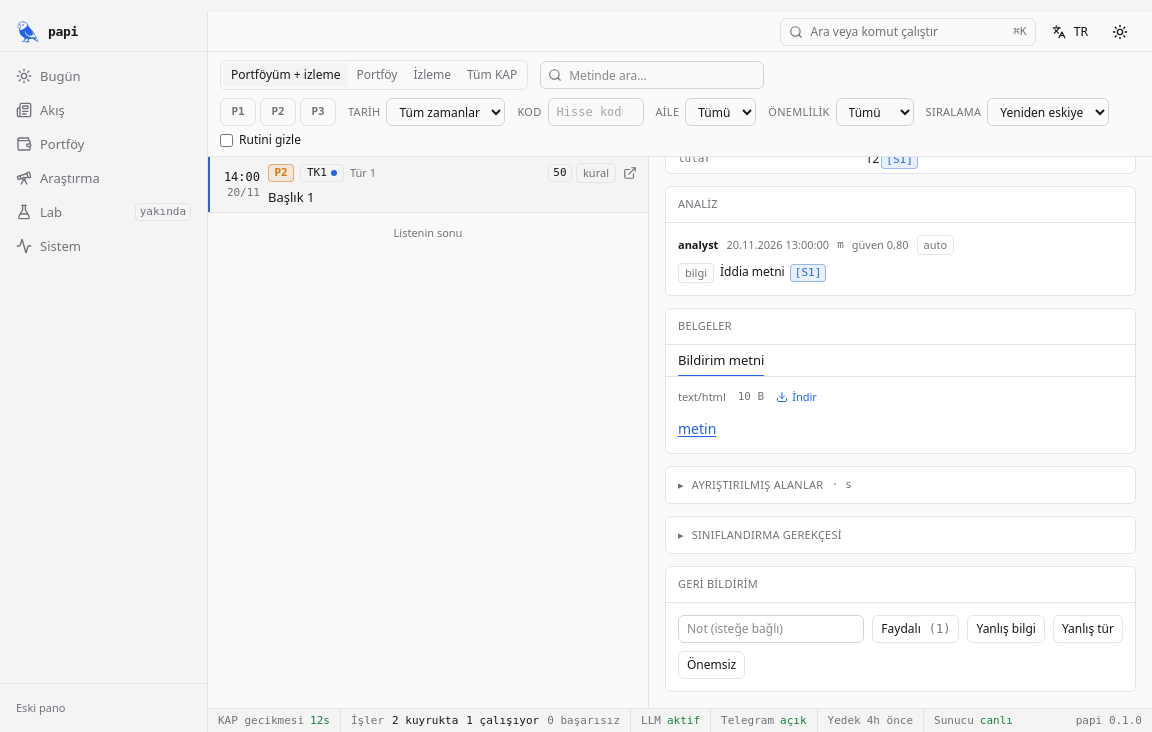
Test: feed › feedback POST bumps the count
(page scrolled)
Click the button "Faydalı (1)" at (916,628), box [872,614,959,642]
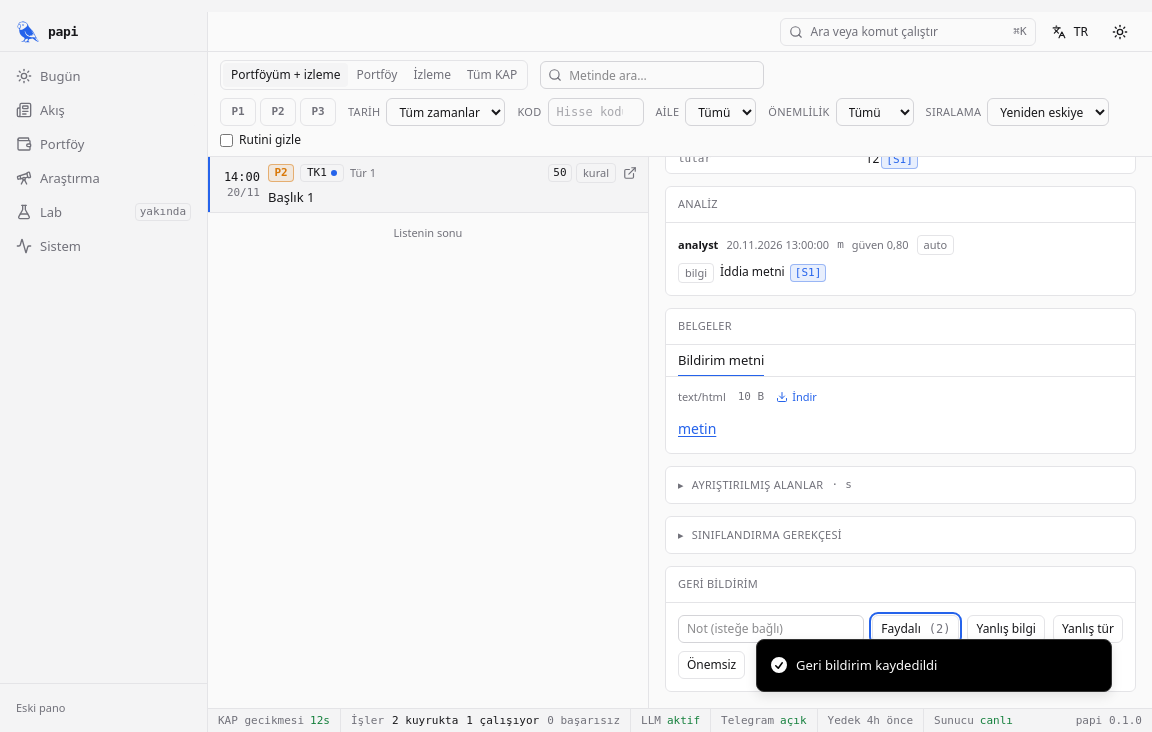
Now the button "Faydalı (2)" is shown, box [872,614,959,642]
